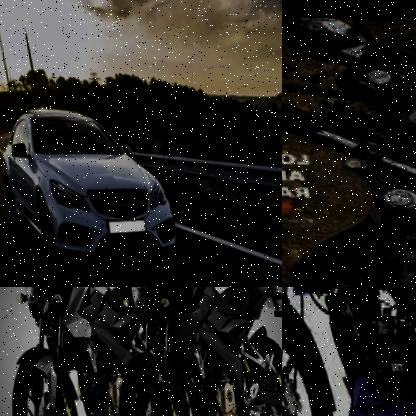bike: (282, 0, 416, 287), (82, 287, 282, 416), (282, 287, 416, 416), (0, 287, 122, 416)
car: (0, 88, 177, 267)
